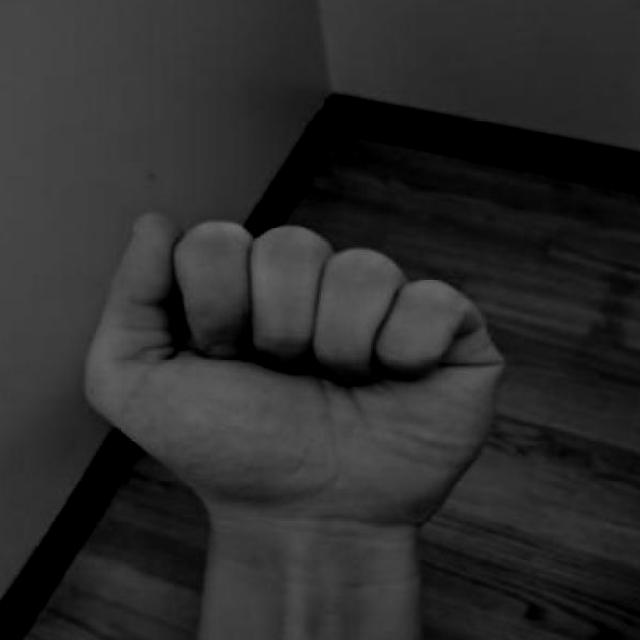A: (73, 197, 516, 592)
